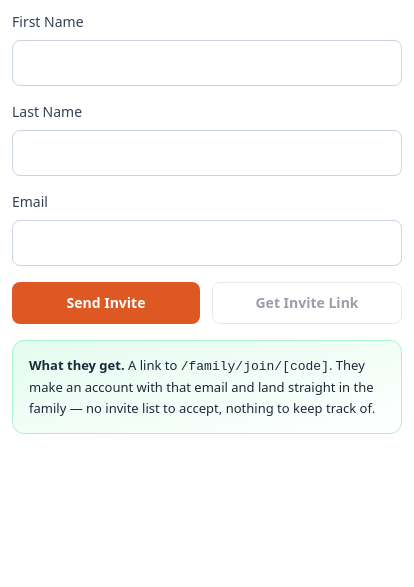
MemberInviteTab › generates + shows the share link
Type "Al" into the field labelled "First Name". click: (207, 63)
box: [12,40,402,86]
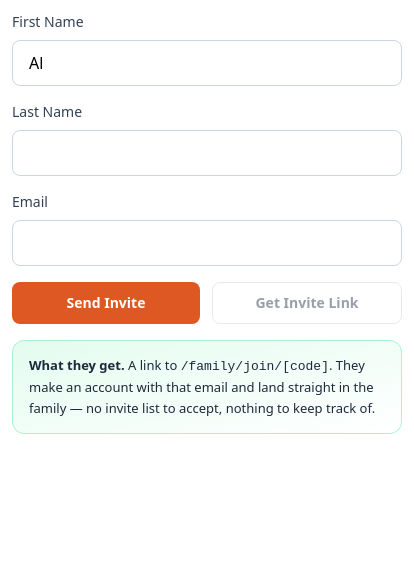
Type "Admin" into the field labelled "Last Name". click: (207, 153)
box: [12,130,402,176]
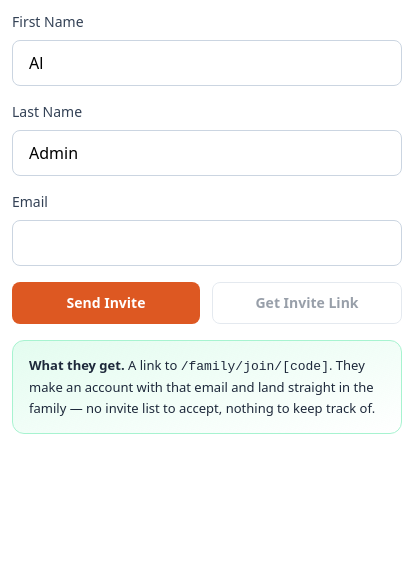
Type "al@x.com" into the field labelled "Email". click: (207, 243)
box: [12,220,402,266]
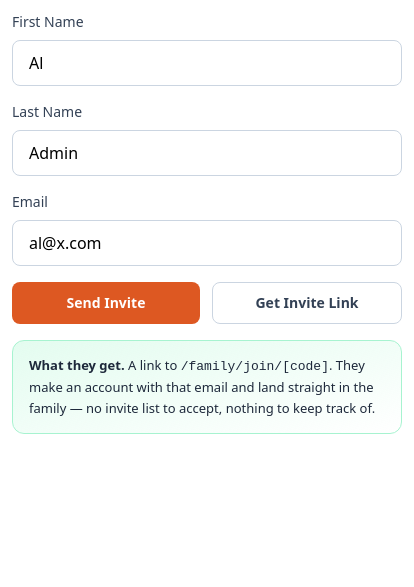
Click the button "Get Invite Link". click: (307, 303)
box: [212,282,402,324]
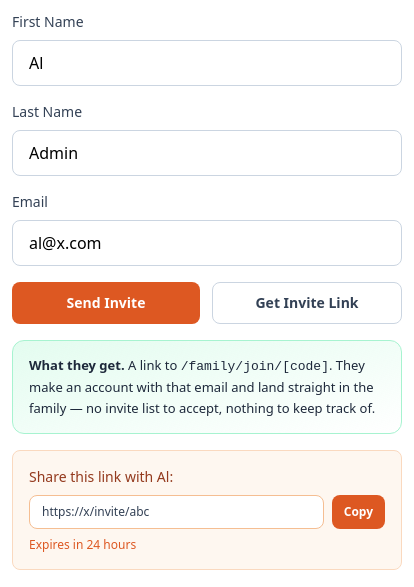
Result: the text "Expires in 24 hours" is shown at [29,536,136,553]
Result: the field showing "https://x/invite/abc" is shown at [29,495,324,529]
